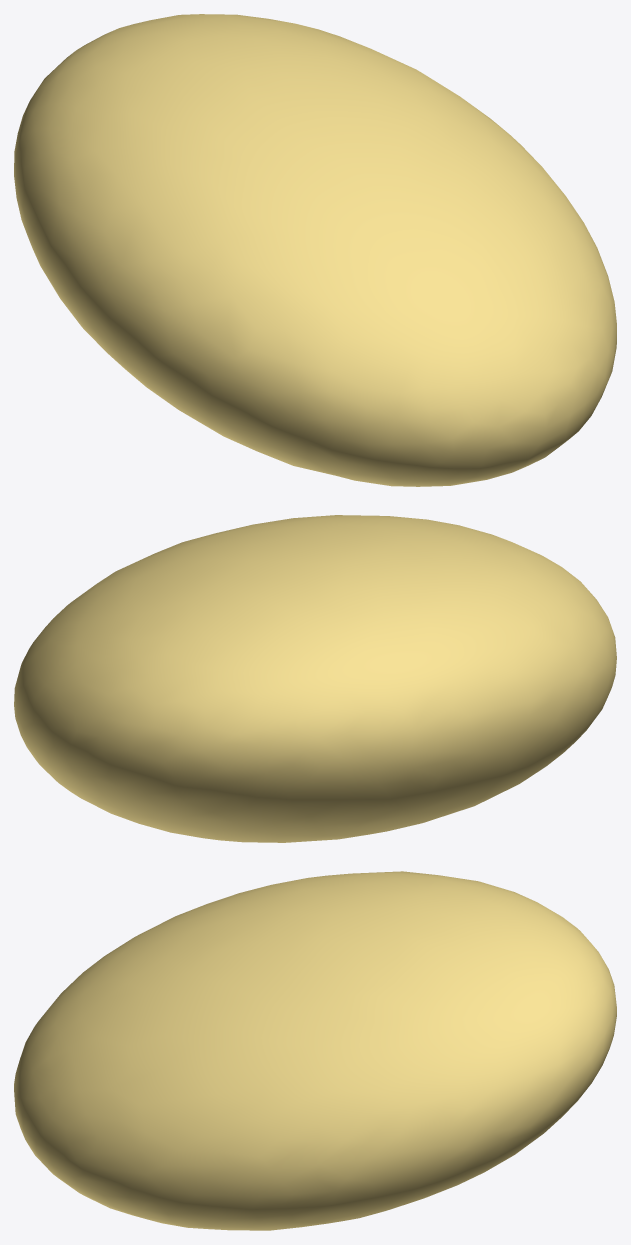
Rendered from fma77628-l_mm3002.glb.
The picture shows the model from 3 angles, top to bottom: view 1: azimuth 30°, elevation 25°; view 2: azimuth 150°, elevation 25°; view 3: azimuth 270°, elevation 25°; orthographic projection. The views are drawn at different scales.
Visible parts, largest first — view 1: FMA77628-L_MM3002; view 2: FMA77628-L_MM3002; view 3: FMA77628-L_MM3002.
Part boxes in pixels (<box>): FMA77628-L_MM3002: <box>14,14,616,486</box>; FMA77628-L_MM3002: <box>14,515,616,842</box>; FMA77628-L_MM3002: <box>14,871,616,1230</box>.
Size of the model in its own units: 0.00492 by 0.003 by 0.00623.
